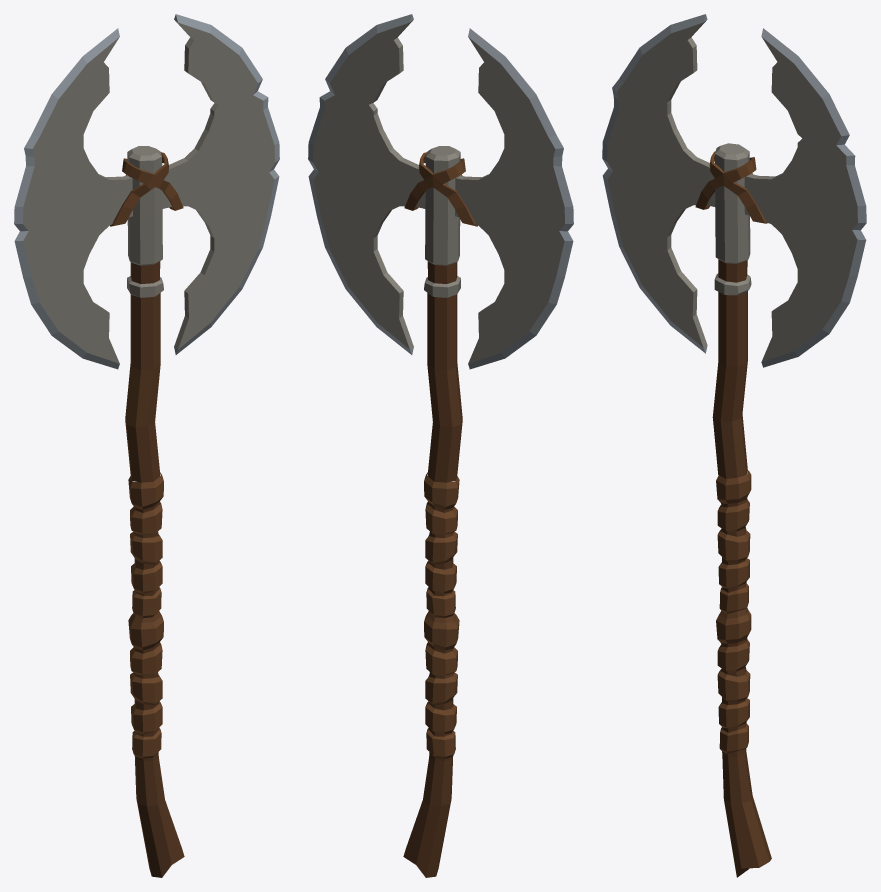
File: cc0-axe-double-lod0.glb
3 renders of one model, left to right at view 1: azimuth 30°, elevation 25°; view 2: azimuth 150°, elevation 25°; view 3: azimuth 330°, elevation 25°, orthographic.
Parts seen in each view (by area): view 1: part_0; view 2: part_0; view 3: part_0.
Boxes of the visible parts, left/top/right/bottom form: part_0: left=14, top=14, right=279, bottom=877; part_0: left=308, top=14, right=573, bottom=877; part_0: left=602, top=14, right=866, bottom=877.
Size of the model in its own units: 2.06 by 6.35 by 0.2609.
